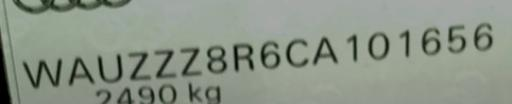letter: (20, 56, 62, 87), (64, 54, 96, 85), (94, 50, 124, 82), (125, 49, 153, 81), (230, 40, 256, 72), (178, 44, 204, 76), (312, 34, 338, 64), (283, 37, 309, 67), (152, 48, 178, 78), (204, 42, 228, 74), (366, 30, 390, 60), (446, 22, 468, 54), (419, 25, 441, 57), (259, 37, 281, 69), (472, 20, 494, 51), (346, 31, 360, 63), (398, 27, 412, 57)
